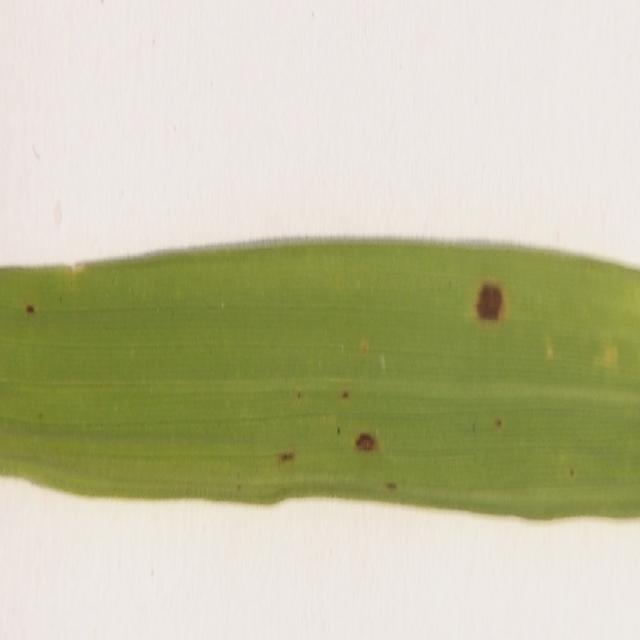brown spot: (467, 263, 511, 344), (351, 412, 384, 468), (274, 433, 302, 474), (335, 369, 355, 417), (23, 284, 38, 329)
